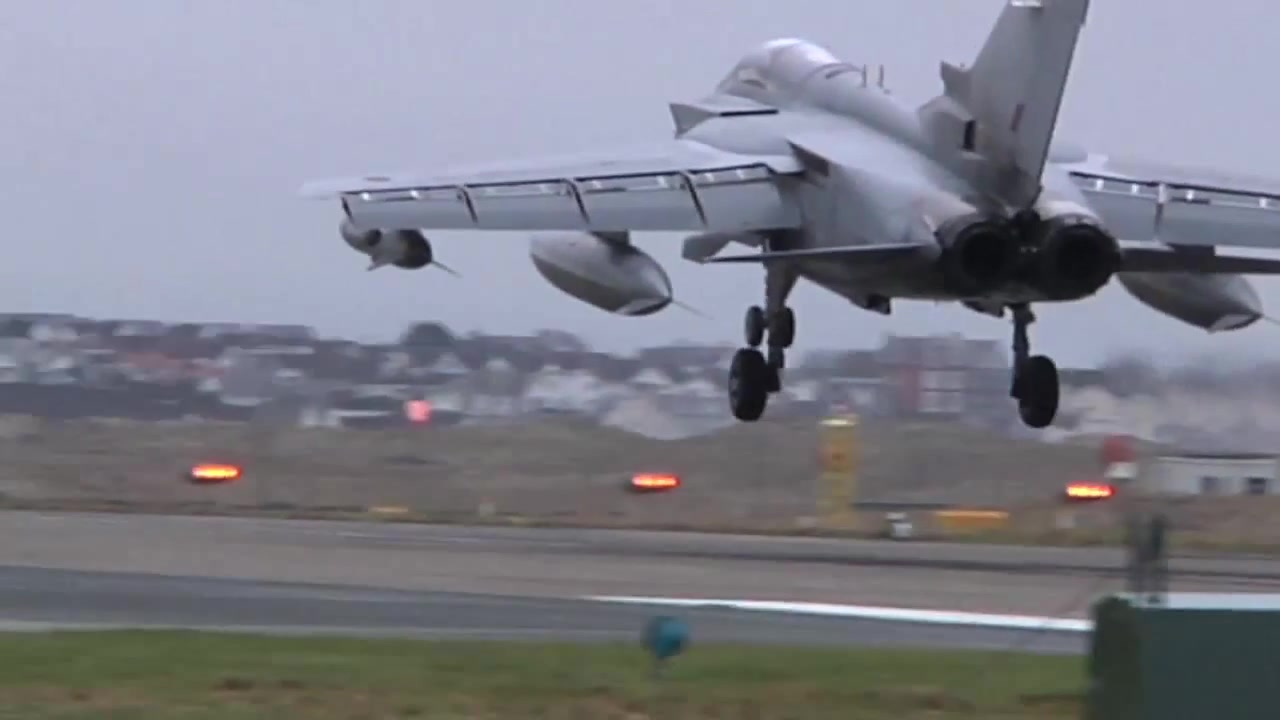aeroplane: (295, 3, 1280, 428)
